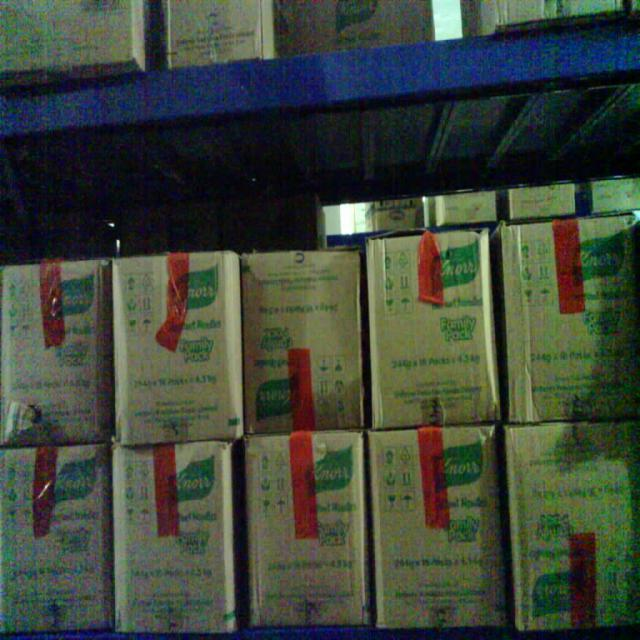cardboxes: (364, 425, 510, 640), (503, 419, 640, 639), (498, 222, 640, 428), (368, 228, 506, 434), (240, 431, 370, 640), (109, 441, 244, 640), (110, 249, 242, 448), (241, 248, 366, 441), (0, 443, 114, 640), (0, 256, 111, 450)
